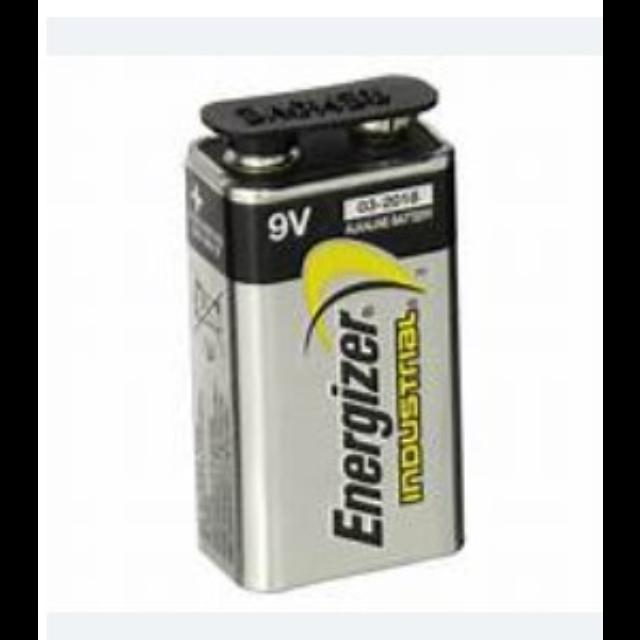Battery: (184, 77, 466, 595)
